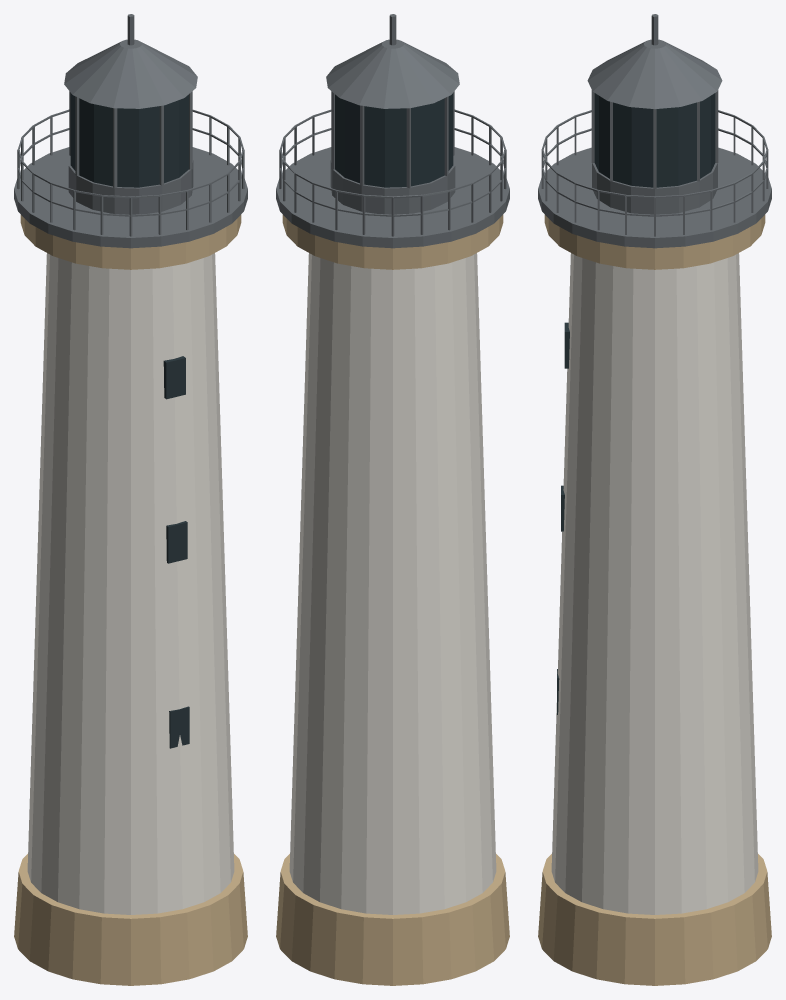
Rendered from far-formentor.glb.
3 renders of one model, left to right at view 1: azimuth 30°, elevation 25°; view 2: azimuth 150°, elevation 25°; view 3: azimuth 270°, elevation 25°, orthographic.
Parts seen in each view (by area): view 1: far-formentor; view 2: far-formentor; view 3: far-formentor.
Boxes of the visible parts, bbox=[...] form: far-formentor: bbox=[14, 14, 247, 985]; far-formentor: bbox=[276, 14, 509, 985]; far-formentor: bbox=[538, 14, 771, 985].
Bounding box in the file's own units: 5.2 × 22.6 × 5.2.
